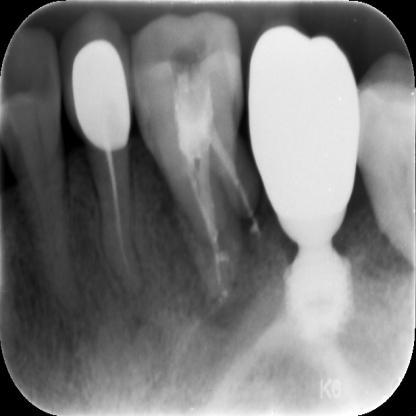Bicon: (276, 209, 364, 337)
